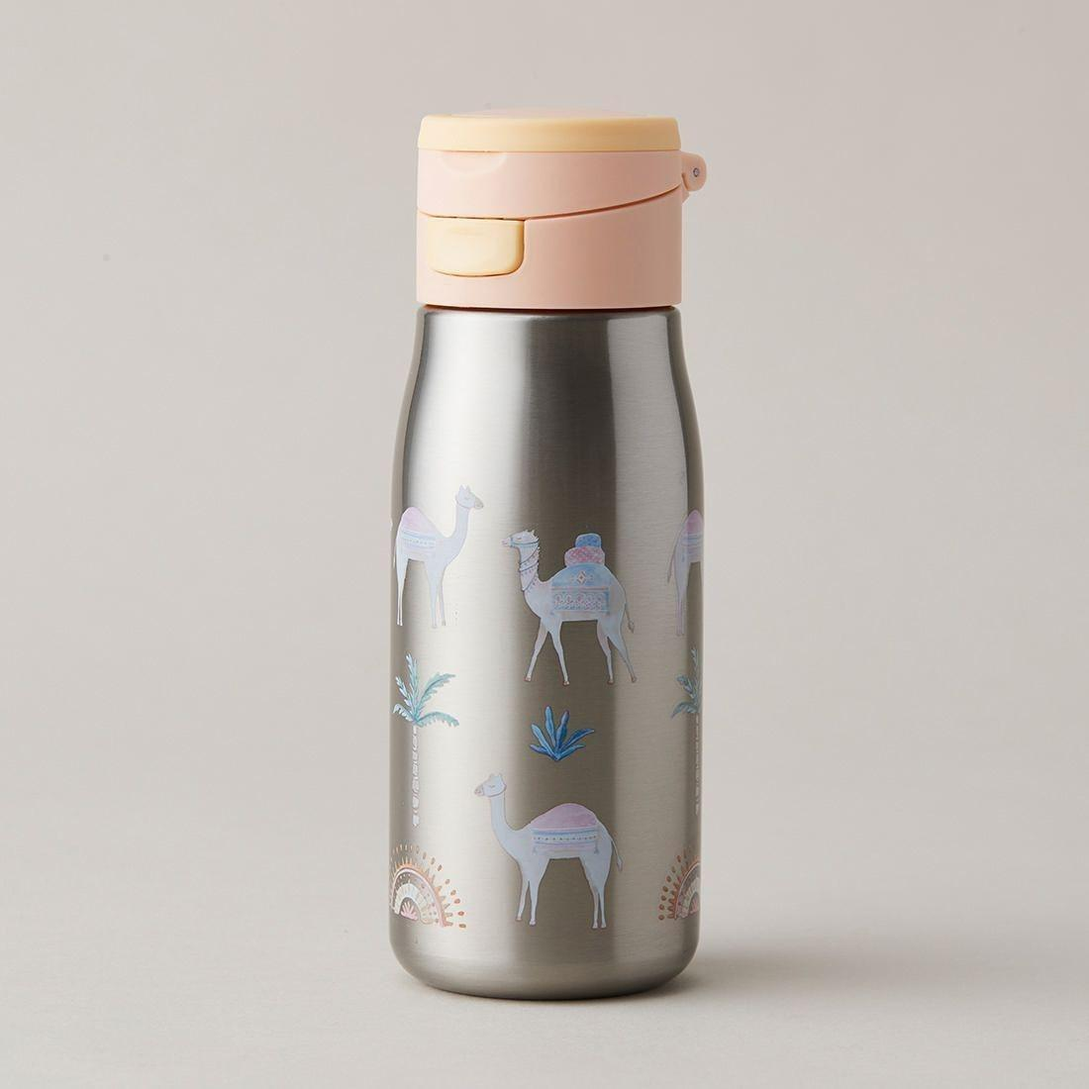gym bottle: (382, 102, 715, 1005)
